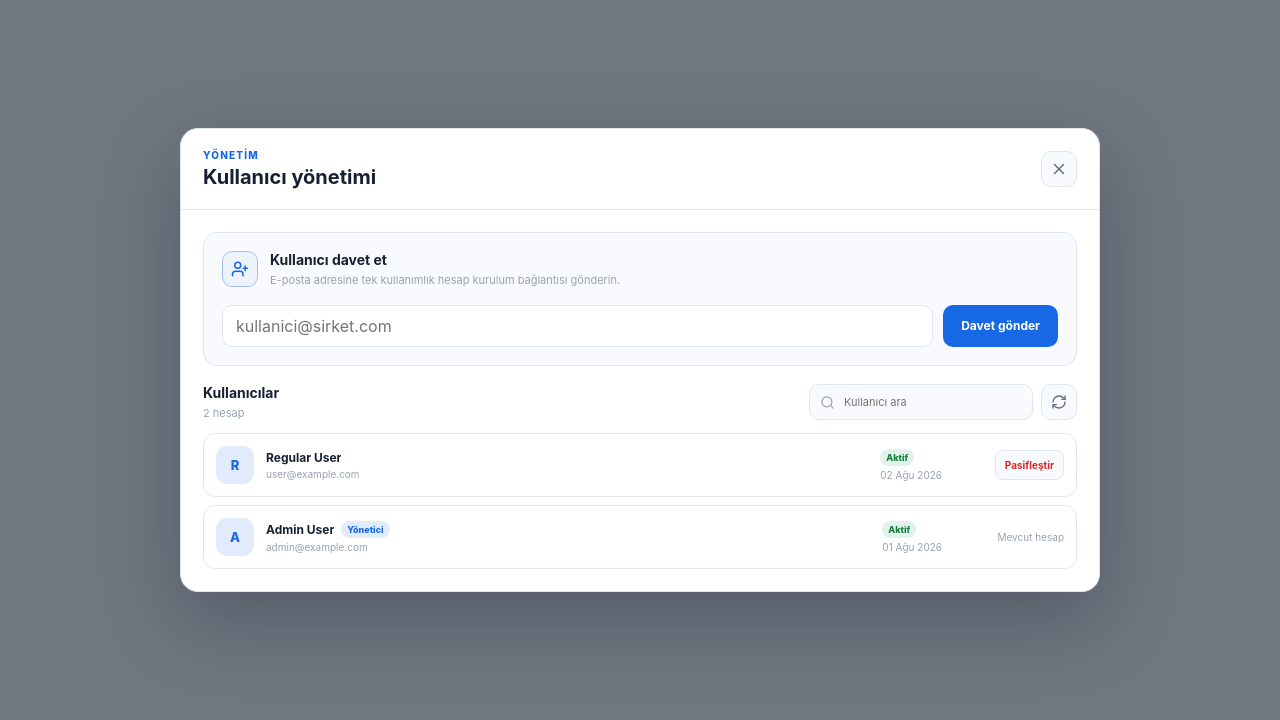
Test: AdminUserPanel › kullanıcı durumunu iki adımlı onayla değiştirir
Expected: the text "Regular User" is shown, [266,450,341,465]
Click the button "Pasifleştir".
click(1029, 465)  # box [995,450,1064,480]
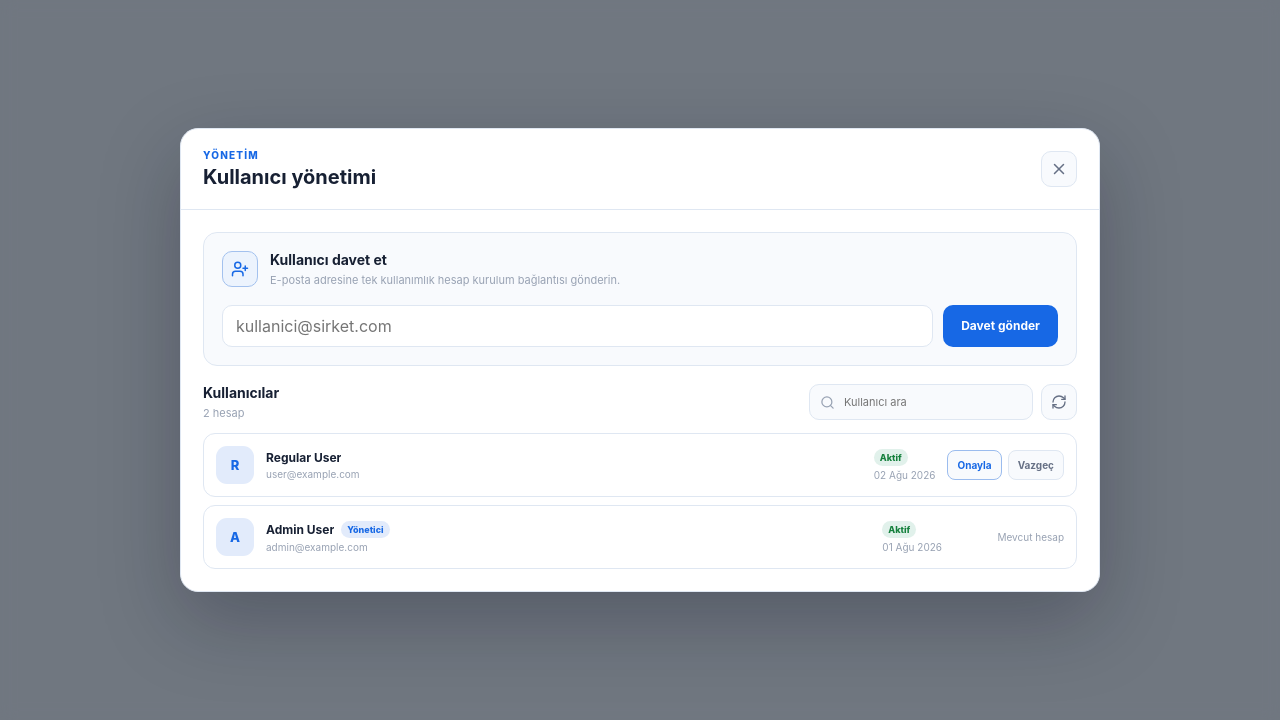
Click the button "Onayla".
click(975, 465)  # box [948,450,1002,480]
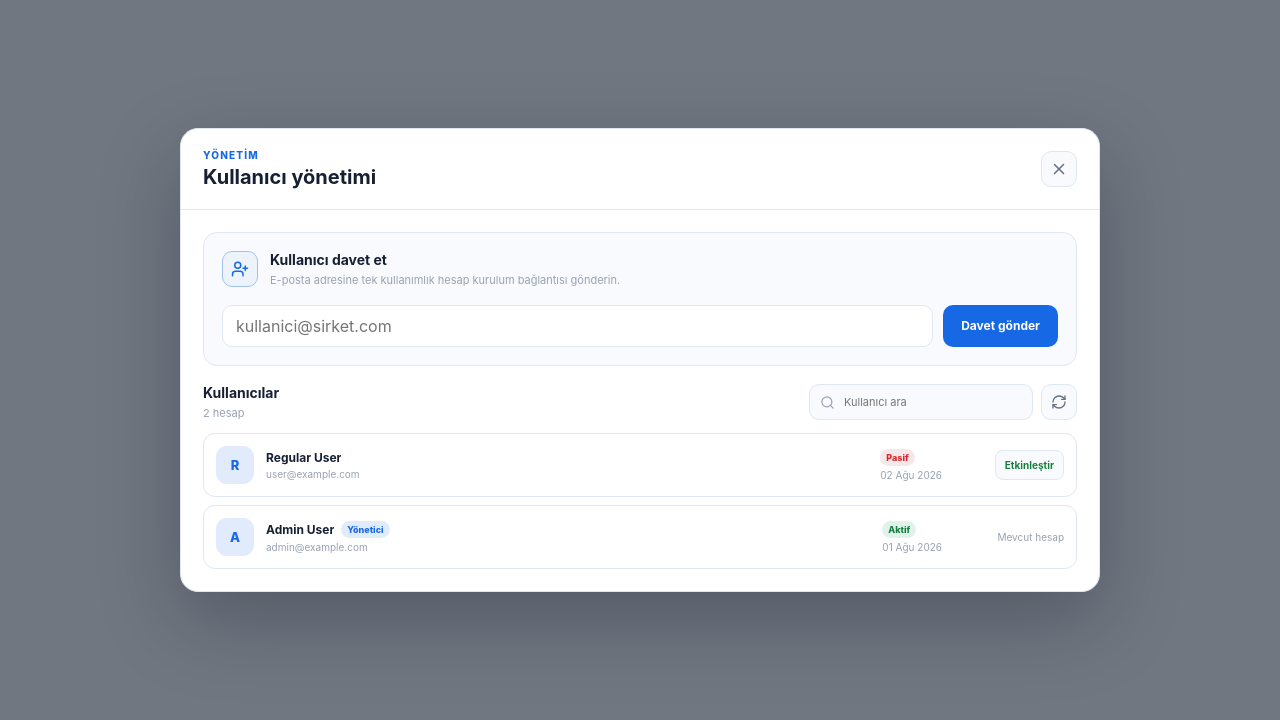
Result: the text "Pasif" is shown at [880,449,915,466]
